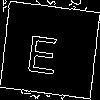E: (24, 24, 61, 76)
